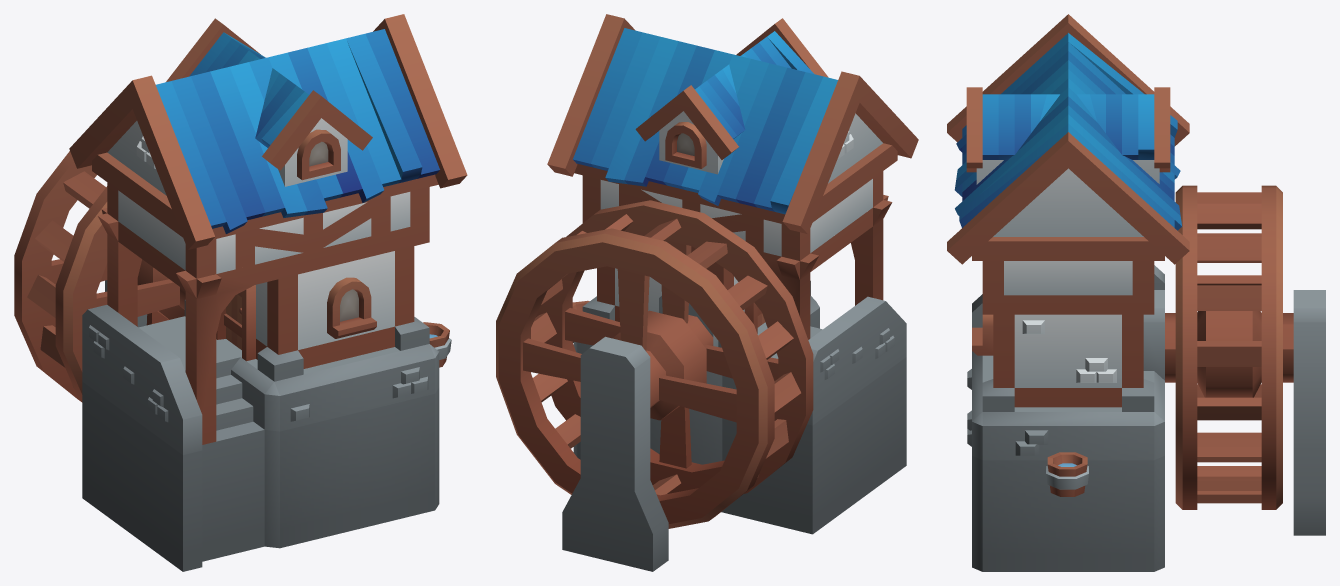
The model's file is watermill.glb.
The picture shows the model from 3 angles, left to right: view 1: azimuth 30°, elevation 25°; view 2: azimuth 150°, elevation 25°; view 3: azimuth 270°, elevation 25°; orthographic projection. The views are drawn at different scales.
Parts seen in each view (by area): view 1: building_watermill_blue, building_watermill_wheel_blue; view 2: building_watermill_blue, building_watermill_wheel_blue; view 3: building_watermill_blue, building_watermill_wheel_blue.
Part boxes in pixels (x1=…): building_watermill_blue: x1=69, y1=14, x2=467, y2=571; building_watermill_wheel_blue: x1=14, y1=151, x2=185, y2=402; building_watermill_blue: x1=547, y1=14, x2=918, y2=571; building_watermill_wheel_blue: x1=496, y1=200, x2=813, y2=528; building_watermill_blue: x1=947, y1=14, x2=1325, y2=571; building_watermill_wheel_blue: x1=1165, y1=185, x2=1293, y2=509.
Bounding box in the file's own units: 1.17 × 1.57 × 1.24.
1 material, 1 textured.
